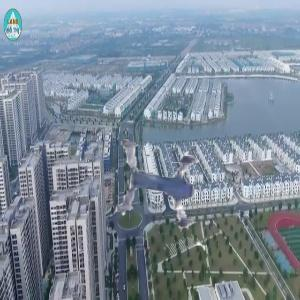drone: (99, 121, 228, 250)
